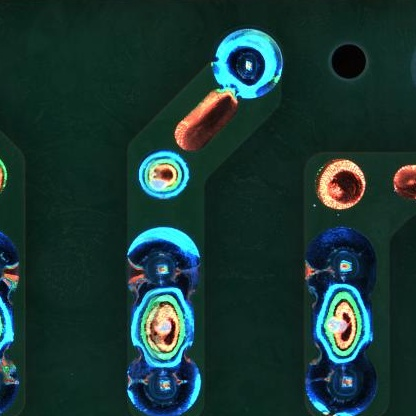spot: (124, 226, 198, 297), (304, 227, 379, 297), (211, 29, 284, 99), (305, 354, 378, 415), (127, 355, 200, 415), (139, 151, 190, 199)
